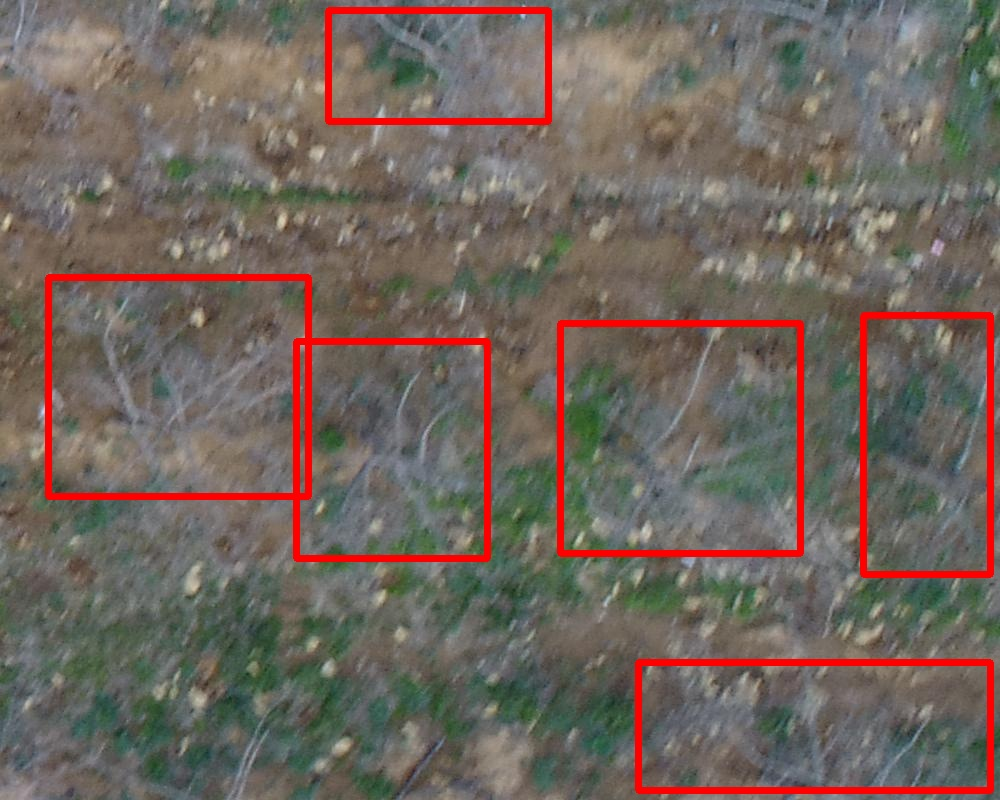apple: (48, 277, 308, 496), (560, 323, 800, 553), (638, 662, 990, 790), (296, 341, 487, 558), (863, 315, 990, 574), (328, 10, 548, 121)
